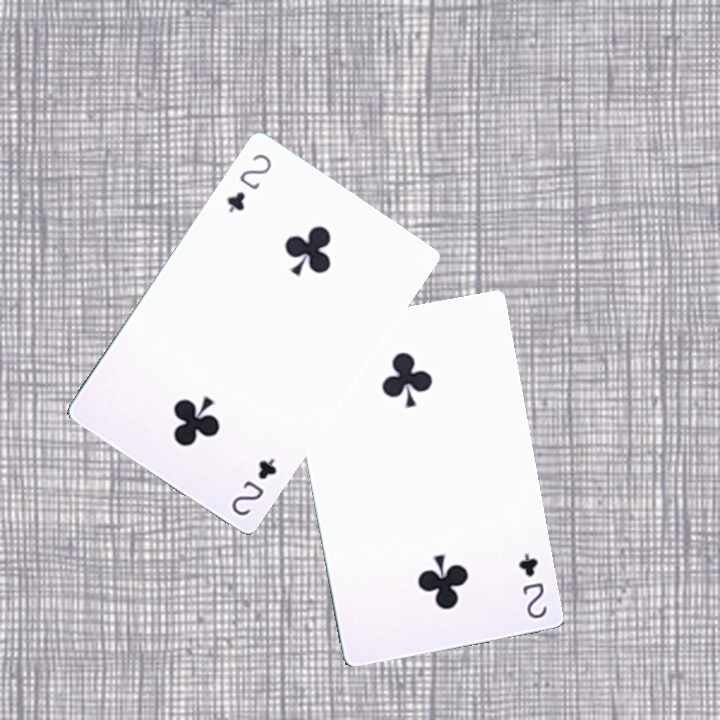2c: (221, 149, 275, 216), (227, 453, 279, 519), (514, 548, 550, 621)
